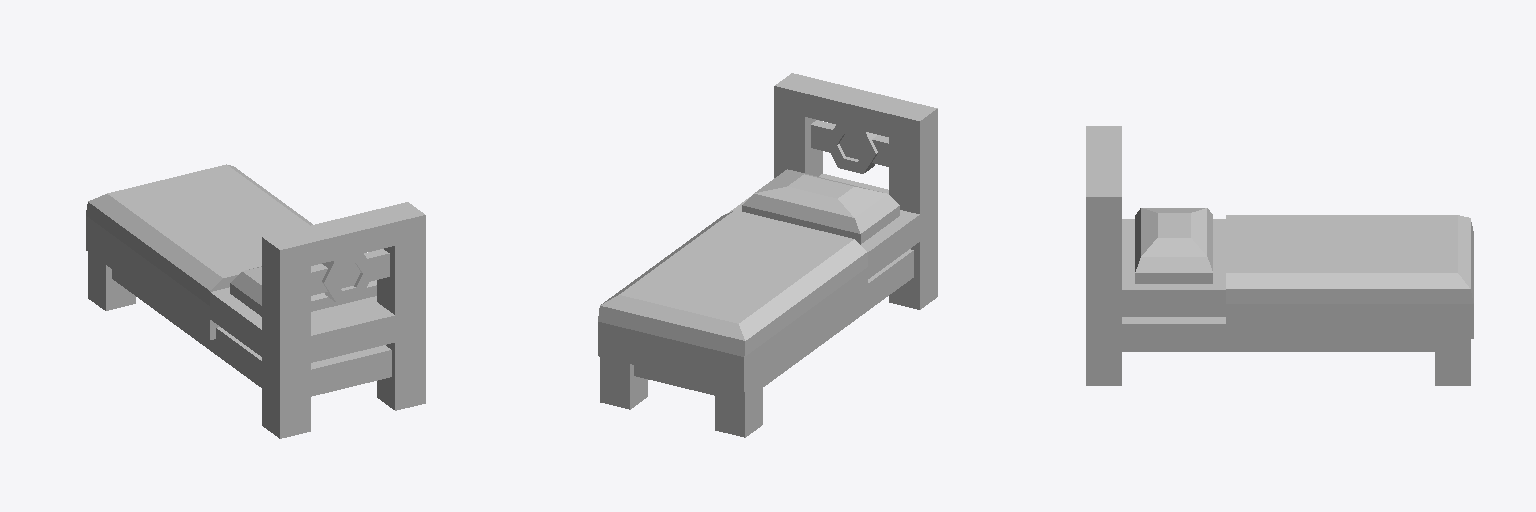
File: bed_single_radiantplateau.obj
3 views of the same model, side by side, from view 1: azimuth 30°, elevation 25°; view 2: azimuth 150°, elevation 25°; view 3: azimuth 270°, elevation 25° (orthographic).
Visible parts, largest first — view 1: bed_radiant_plateau; view 2: bed_radiant_plateau; view 3: bed_radiant_plateau.
Boxes of the visible parts, x1=… form: bed_radiant_plateau: x1=86, y1=164, x2=425, y2=438; bed_radiant_plateau: x1=598, y1=73, x2=937, y2=437; bed_radiant_plateau: x1=1086, y1=126, x2=1473, y2=385.
Size of the model in its own units: 0.65 by 0.7995 by 1.49.